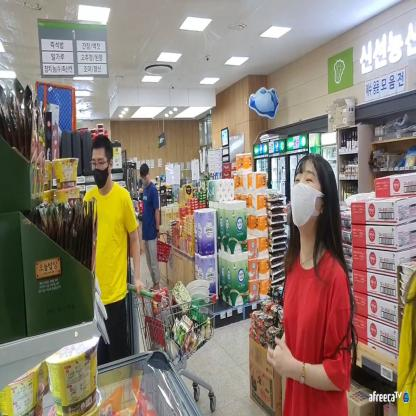streamer: (267, 153, 352, 416), (83, 134, 142, 360), (140, 163, 162, 290), (397, 270, 415, 416)
